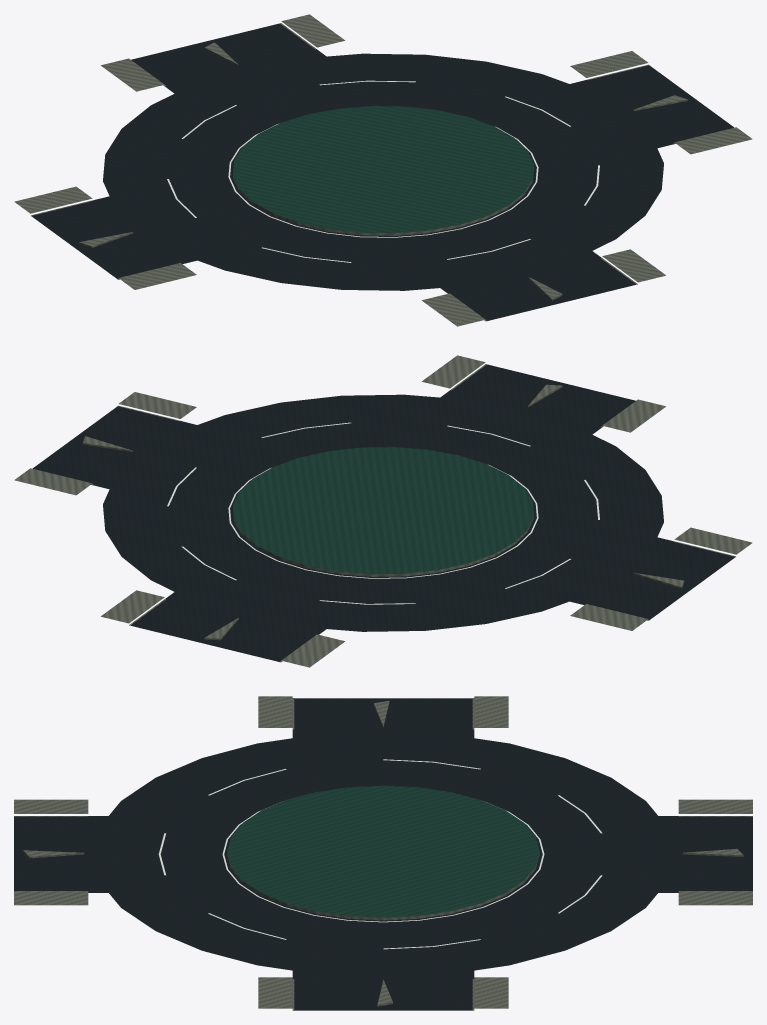
Rendered from junc_roundabout_2lane_LOD2.glb.
3 views of the same model, one above another, from view 1: azimuth 30°, elevation 25°; view 2: azimuth 150°, elevation 25°; view 3: azimuth 270°, elevation 25° (orthographic). The views are drawn at different scales.
Visible parts, largest first — view 1: junc_roundabout_2lane__surface.002, junc_roundabout_2lane__center_island.002, junc_roundabout_2lane__entry_ports.002, junc_roundabout_2lane__entry_sidewalks.002, junc_roundabout_2lane__splitter_islands.002; view 2: junc_roundabout_2lane__surface.002, junc_roundabout_2lane__center_island.002, junc_roundabout_2lane__entry_ports.002, junc_roundabout_2lane__entry_sidewalks.002, junc_roundabout_2lane__splitter_islands.002; view 3: junc_roundabout_2lane__surface.002, junc_roundabout_2lane__center_island.002, junc_roundabout_2lane__entry_ports.002, junc_roundabout_2lane__entry_sidewalks.002, junc_roundabout_2lane__splitter_islands.002.
Part boxes in pixels (x1,y1,x2,y2): junc_roundabout_2lane__surface.002: [103, 53, 663, 290]; junc_roundabout_2lane__center_island.002: [167, 80, 599, 262]; junc_roundabout_2lane__entry_ports.002: [31, 23, 733, 320]; junc_roundabout_2lane__entry_sidewalks.002: [14, 14, 752, 326]; junc_roundabout_2lane__splitter_islands.002: [79, 42, 687, 300]; junc_roundabout_2lane__surface.002: [103, 394, 663, 631]; junc_roundabout_2lane__center_island.002: [167, 422, 599, 604]; junc_roundabout_2lane__entry_ports.002: [33, 364, 735, 661]; junc_roundabout_2lane__entry_sidewalks.002: [14, 355, 752, 667]; junc_roundabout_2lane__splitter_islands.002: [82, 384, 684, 640]; junc_roundabout_2lane__surface.002: [92, 731, 674, 977]; junc_roundabout_2lane__center_island.002: [158, 759, 602, 949]; junc_roundabout_2lane__entry_ports.002: [14, 698, 752, 1010]; junc_roundabout_2lane__entry_sidewalks.002: [14, 696, 752, 1010]; junc_roundabout_2lane__splitter_islands.002: [23, 700, 743, 1006].
Size of the model in its own units: 52 by 0.214 by 52.
5 materials, 4 textured.
